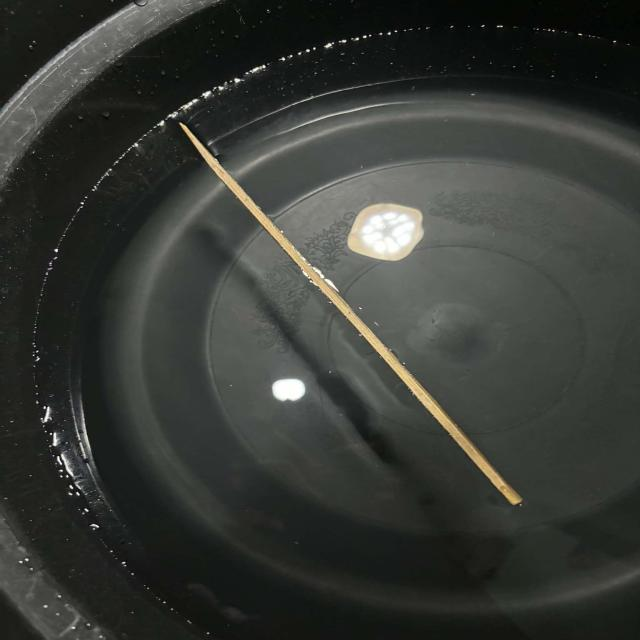Wood Stick: (173, 113, 537, 527)
